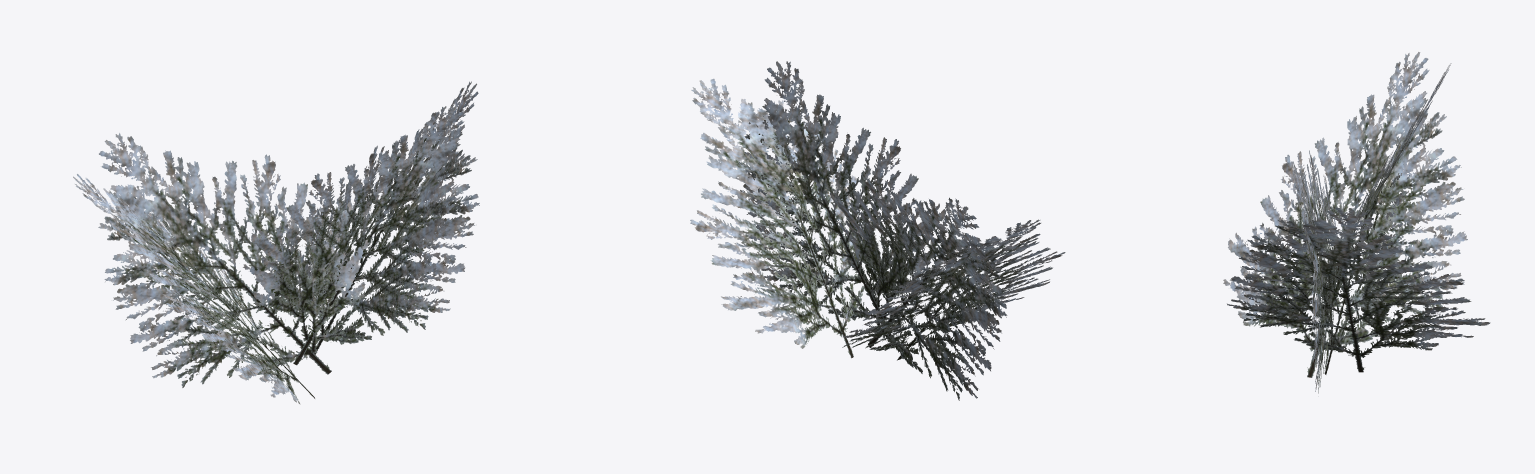
File: SM_EN_2007_guanmu_05.FBX
3 renders of one model, left to right at view 1: azimuth 30°, elevation 25°; view 2: azimuth 150°, elevation 25°; view 3: azimuth 270°, elevation 25°, orthographic. The views are drawn at different scales.
Parts seen in each view (by area): view 1: SM_EN_2007_guanmu_05; view 2: SM_EN_2007_guanmu_05; view 3: SM_EN_2007_guanmu_05.
Boxes of the visible parts, x1,y1,x2,y2 form: SM_EN_2007_guanmu_05: (73, 81, 479, 404); SM_EN_2007_guanmu_05: (690, 61, 1065, 400); SM_EN_2007_guanmu_05: (1223, 52, 1490, 393).
Bounding box in the file's own units: 304 × 236 × 180.
